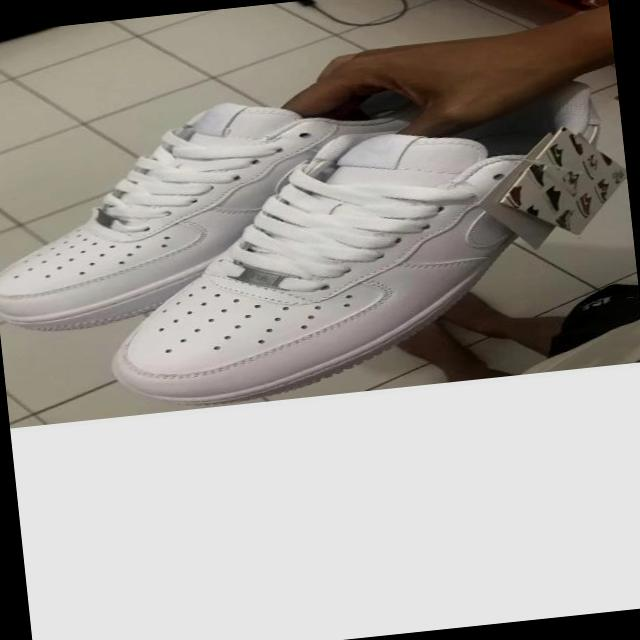nike_original_airforce: (74, 75, 632, 412), (0, 77, 382, 336)
